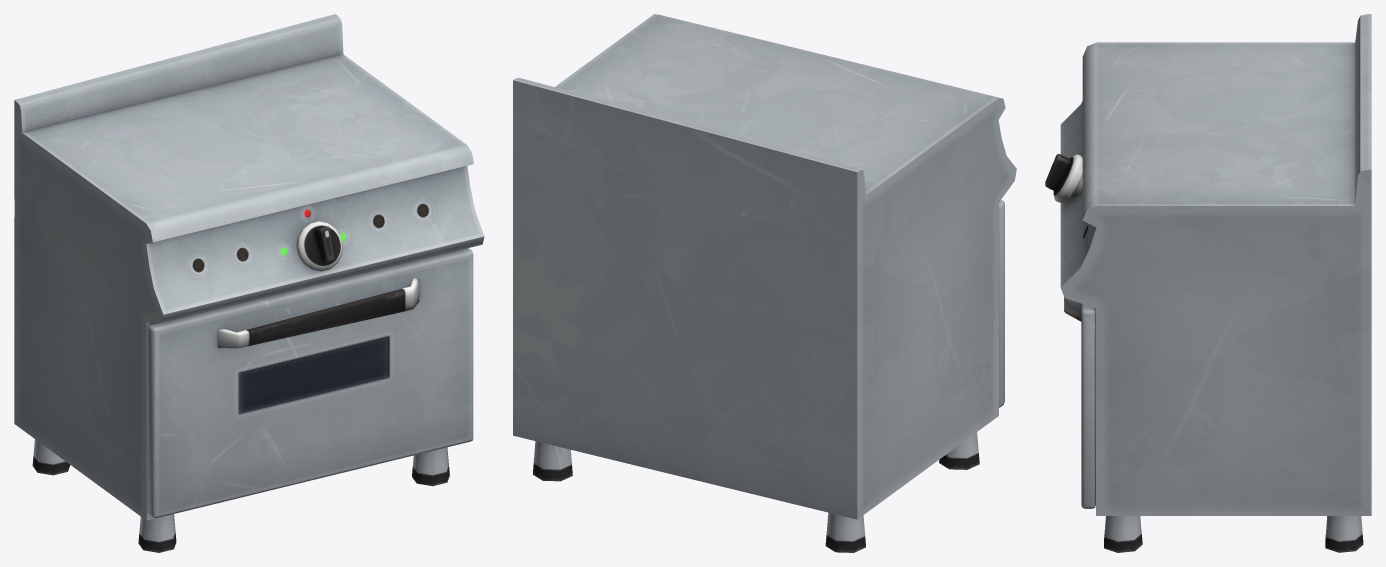
The model's file is CommKitchen01_2.FBX.
The picture shows the model from 3 angles, left to right: view 1: azimuth 30°, elevation 25°; view 2: azimuth 150°, elevation 25°; view 3: azimuth 270°, elevation 25°; orthographic projection. The views are drawn at different scales.
Parts seen in each view (by area): view 1: CommKitchen01_2; view 2: CommKitchen01_2; view 3: CommKitchen01_2.
Boxes of the visible parts, x1=… form: CommKitchen01_2: x1=14, y1=14, x2=484, y2=552; CommKitchen01_2: x1=513, y1=14, x2=1016, y2=552; CommKitchen01_2: x1=1045, y1=14, x2=1371, y2=552.
Size of what is drawn, in the model's own units: 1 by 1.1 by 0.8433.
